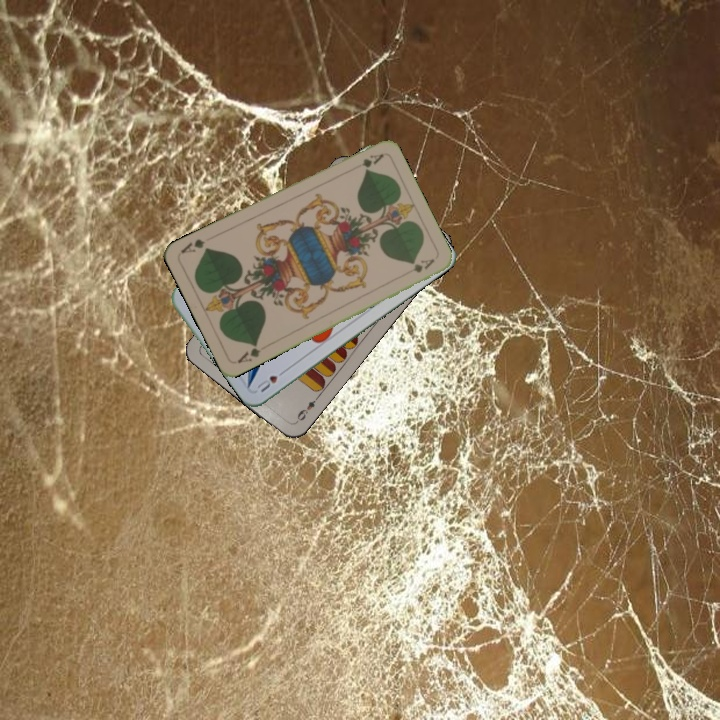E9: (292, 392, 322, 426)
GA: (347, 149, 386, 173), (233, 339, 263, 366)
HU: (253, 365, 289, 395)
